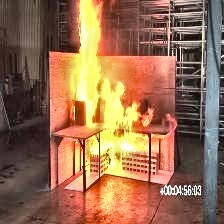fire: (46, 0, 178, 181)
